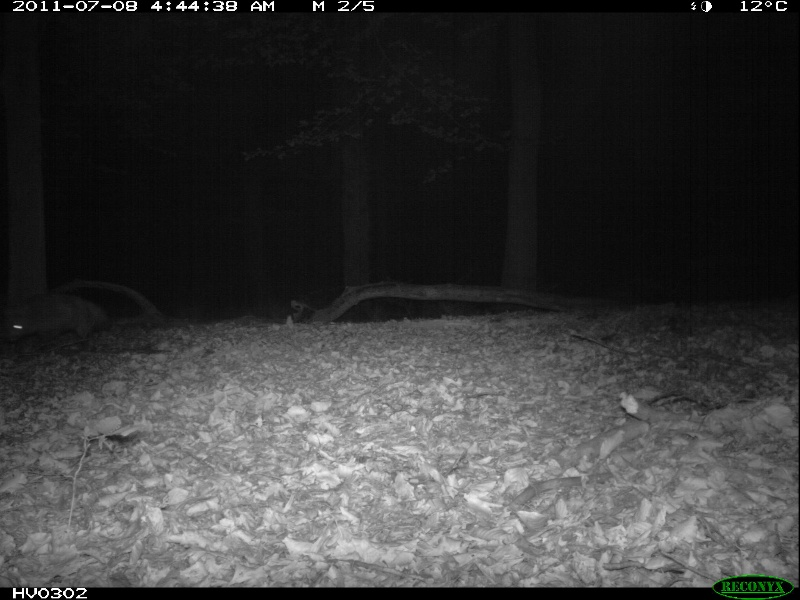fox: (8, 297, 111, 350)
